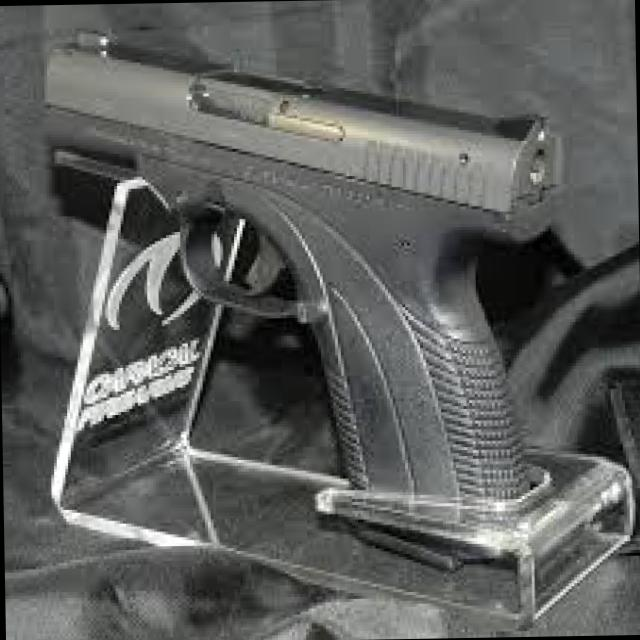Gun: (14, 0, 573, 545)
